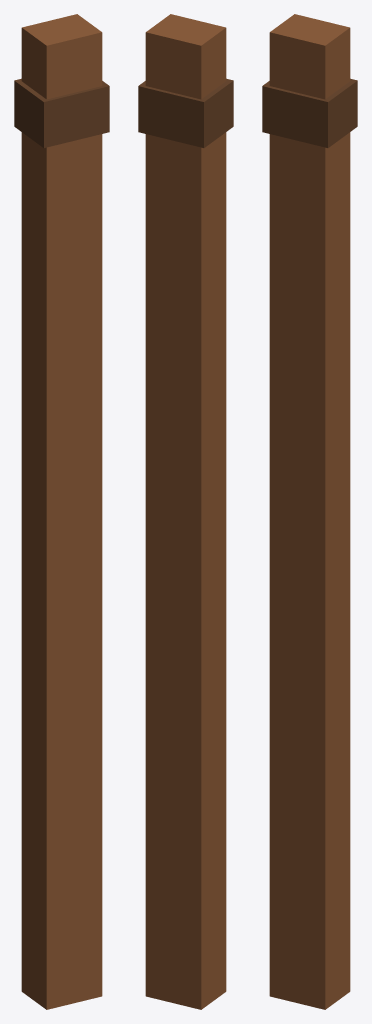
The model's file is pontoon_stick.fbx.
3 views of the same model, side by side, from view 1: azimuth 30°, elevation 25°; view 2: azimuth 150°, elevation 25°; view 3: azimuth 330°, elevation 25° (orthographic).
Parts seen in each view (by area): view 1: pontoon_stick; view 2: pontoon_stick; view 3: pontoon_stick.
Part boxes in pixels (left/top/right/bottom): pontoon_stick: left=14, top=14, right=109, bottom=1009; pontoon_stick: left=138, top=14, right=233, bottom=1009; pontoon_stick: left=262, top=14, right=357, bottom=1009.
Size of the model in its own units: 35.36 by 494 by 27.52.
Materials: 1 (1 with a texture image).
